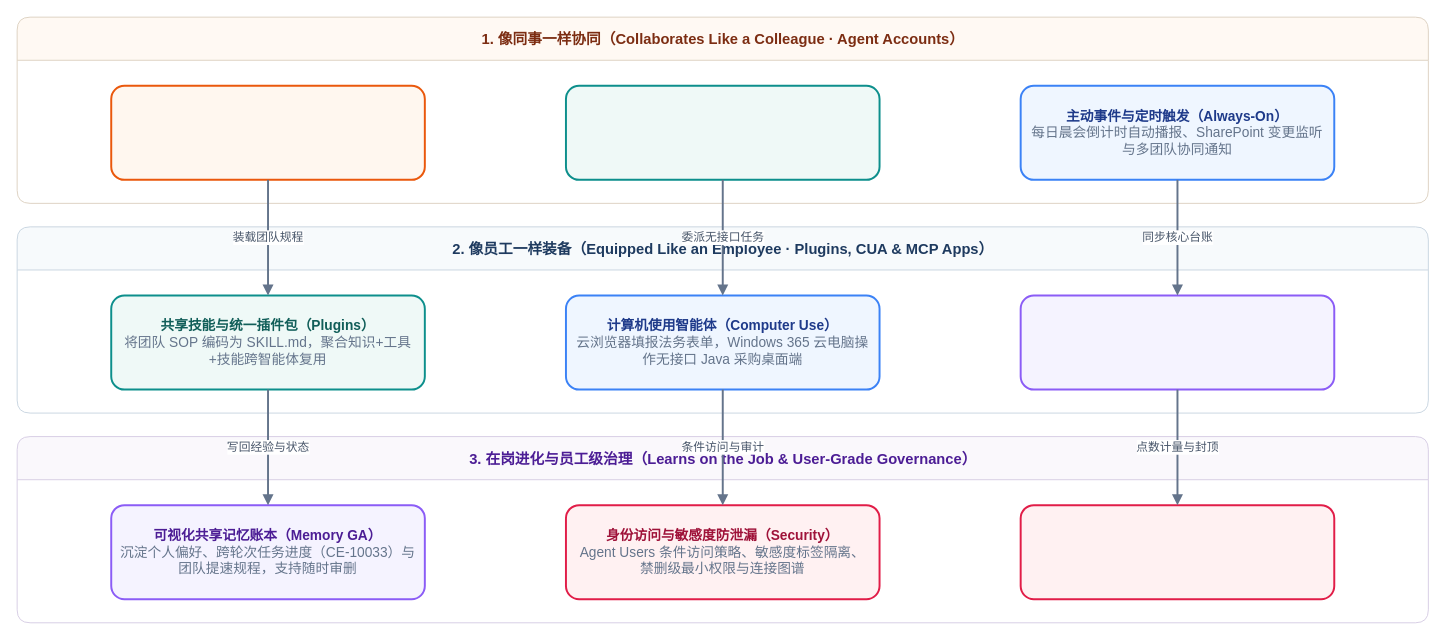
Some shapes in this 1446 by 640 pixel diagram are drawn without their labels. Here are the shapes that lost their labels. From the top down, the centre of each, then its label:
the point at 267,132: 专属智能体账号（Agent Account） 独立 Entra ID、专属邮箱与日历、组织架构汇报给经理 Vid
the point at 722,132: 全场景原生办公入口（M365 Surfaces） Teams 频道与私聊、Outlook 邮件收发、Word/PPT/Excel 评论 @提及
the point at 1177,342: 记录系统与富交互微件（MCP Apps） 以智能体自身身份读写 Dataverse 台账，对话内直出交互式地图与日历
the point at 1177,552: 三级算力成本围栏（Spend Control） 单次会话点数透视、单智能体 100% 触顶熔断、环境级配额封顶禁抽租户池
